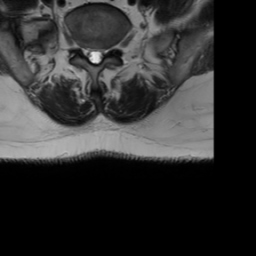CCS_stenosis: (91, 41, 98, 70)
LFS_severe_stenosis: (105, 37, 112, 60)
LLS_normal: (98, 43, 105, 66)
RFS_severe_stenosis: (76, 36, 83, 58)
RLS_normal: (83, 43, 91, 67)
